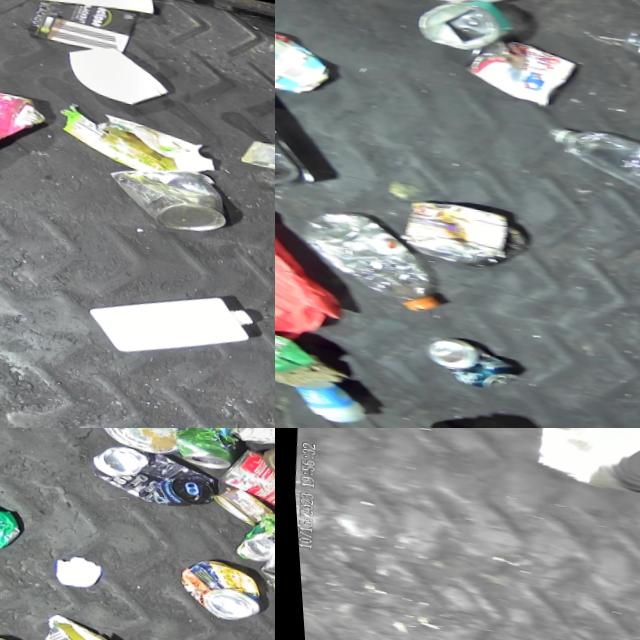can: (99, 148, 226, 230), (520, 428, 640, 509), (82, 434, 213, 507), (455, 27, 576, 106), (390, 189, 503, 260), (413, 327, 516, 390), (169, 547, 258, 618), (409, 0, 513, 53), (211, 435, 275, 518), (225, 499, 275, 561), (205, 476, 270, 522), (164, 428, 237, 466), (82, 428, 175, 450), (249, 535, 275, 613)
milk_jug: (77, 267, 254, 368)
plastic_bottle: (286, 201, 441, 312), (532, 115, 640, 205)
